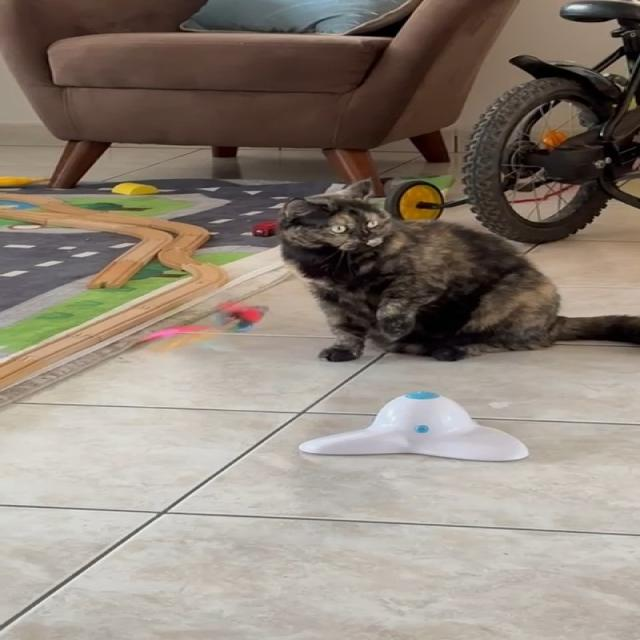authorized: (273, 178, 639, 362)
